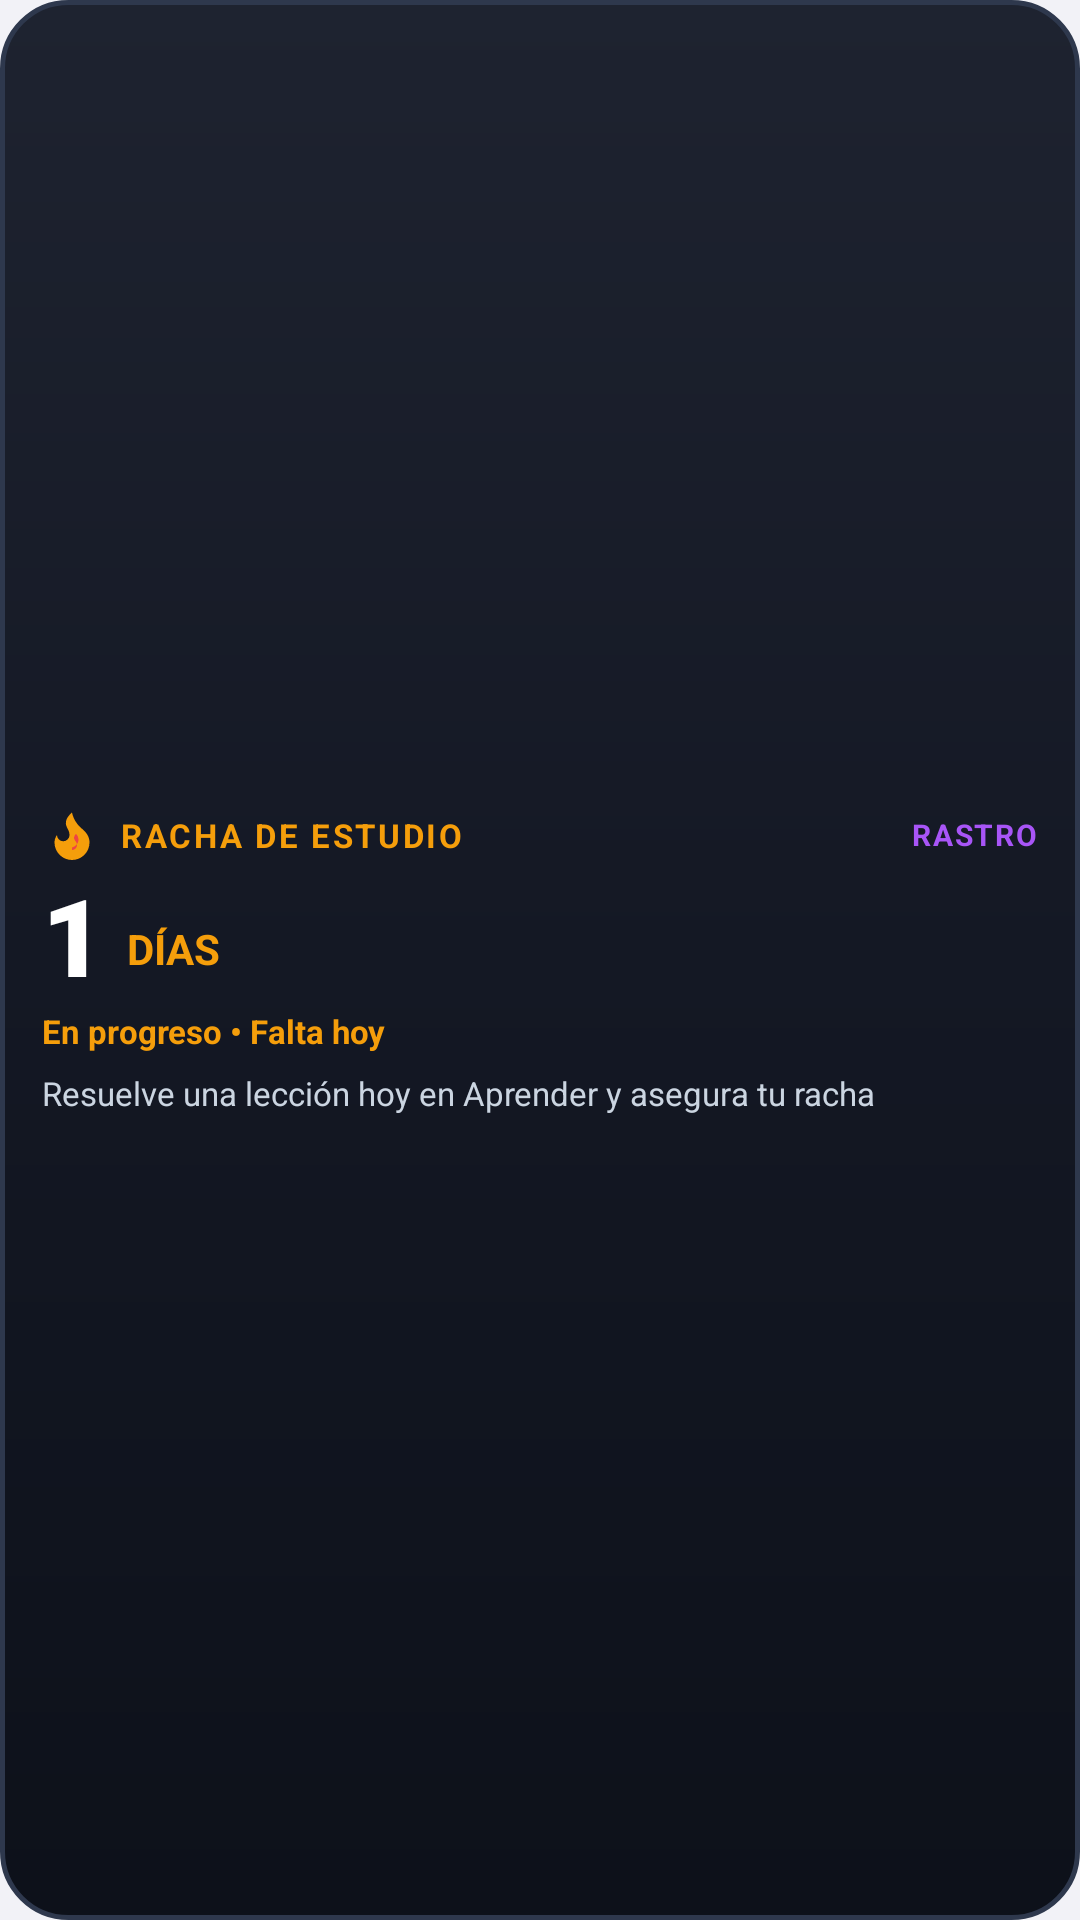

Point at icon controls on the screen. Image size 1080 × 1920, points as (x=x, y=y).
Llama de racha: (x=72, y=836)
